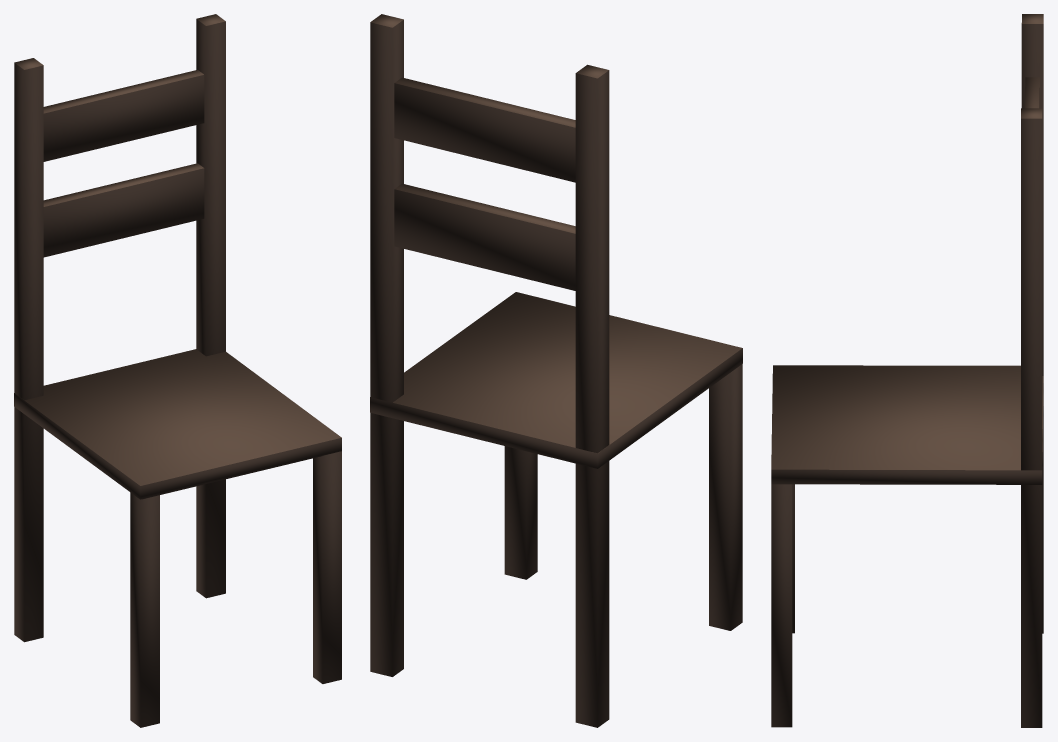
Rendered from furnishings-chairs-woodchair_v1.glb.
The picture shows the model from 3 angles, left to right: view 1: azimuth 30°, elevation 25°; view 2: azimuth 150°, elevation 25°; view 3: azimuth 270°, elevation 25°; orthographic projection. The views are drawn at different scales.
Visible parts, largest first — view 1: WoodChair.001; view 2: WoodChair.001; view 3: WoodChair.001.
Part boxes in pixels (x1,y1,x2,y2): WoodChair.001: (14,14,341,727); WoodChair.001: (370,14,742,727); WoodChair.001: (771,14,1043,727).
Size of the model in its own units: 0.4145 by 1.12 by 0.4547.
